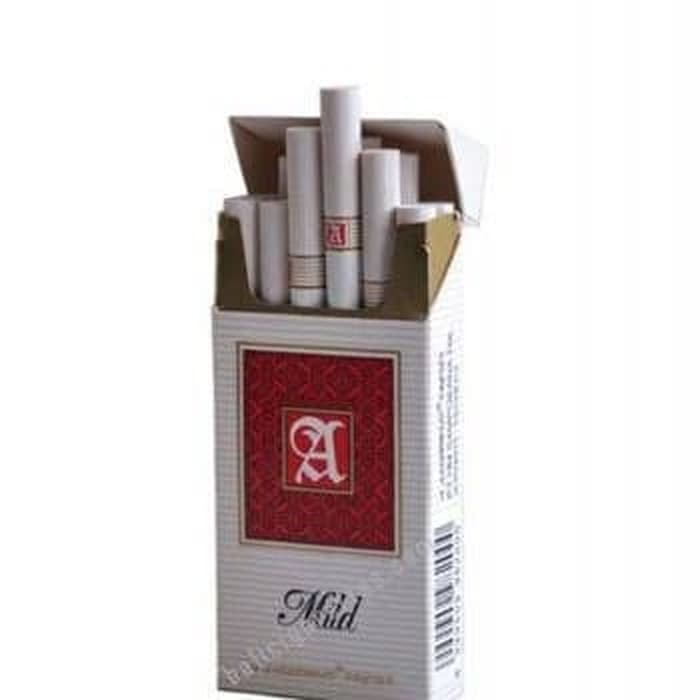A Mild: (215, 316, 423, 700)
